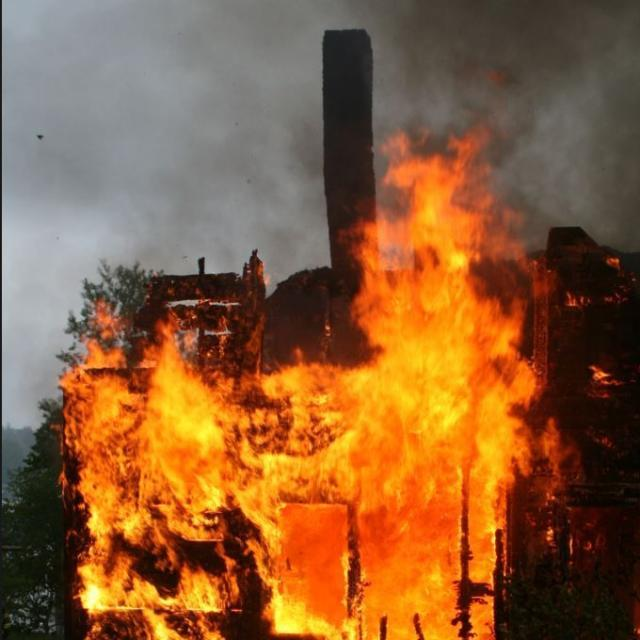Fire: (74, 155, 558, 624)
Smoke: (214, 2, 640, 234)
